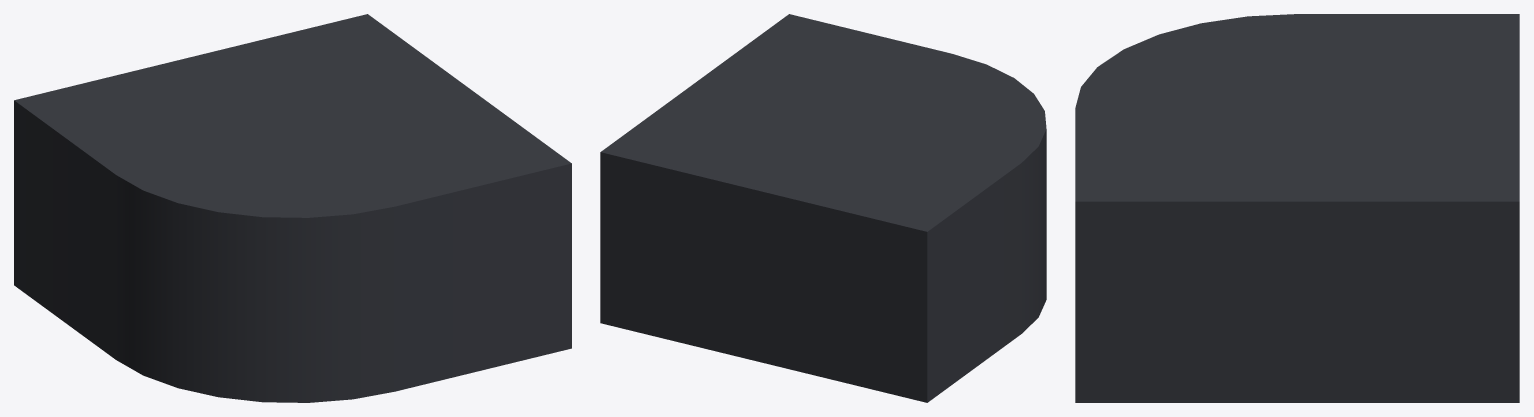
The model's file is NF_Floor_00_Black_10.fbx.
3 renders of one model, left to right at view 1: azimuth 30°, elevation 25°; view 2: azimuth 150°, elevation 25°; view 3: azimuth 270°, elevation 25°, orthographic. The views are drawn at different scales.
Visible parts, largest first — view 1: NF_Floor_00_Black_10; view 2: NF_Floor_00_Black_10; view 3: NF_Floor_00_Black_10.
Part boxes in pixels (bbox=[...]): NF_Floor_00_Black_10: bbox=[14, 14, 571, 402]; NF_Floor_00_Black_10: bbox=[600, 14, 1046, 402]; NF_Floor_00_Black_10: bbox=[1075, 14, 1519, 402].
Bounding box in the file's own units: 2 × 1 × 2.
1 material, 1 textured.
